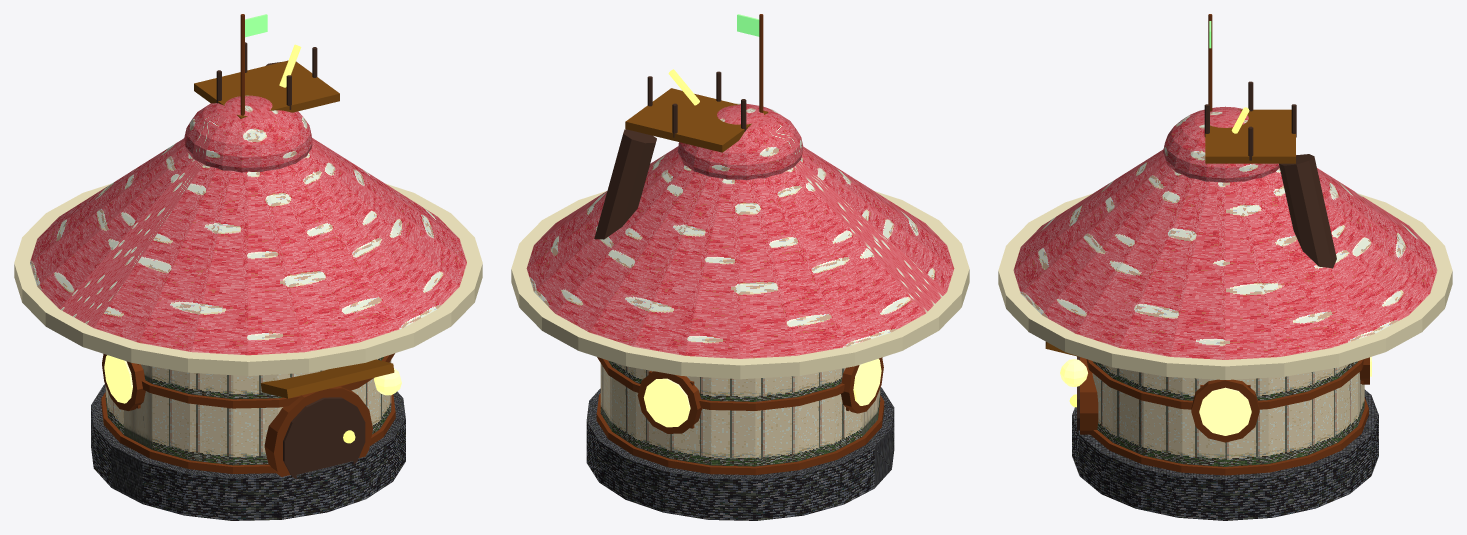
File: casa_pino.glb
3 views of the same model, side by side, from view 1: azimuth 30°, elevation 25°; view 2: azimuth 150°, elevation 25°; view 3: azimuth 270°, elevation 25° (orthographic). The views are drawn at different scales.
Visible parts, largest first — view 1: Cone, Cylinder, Cylinder.005, Cylinder.001, Sphere, Cylinder.014, Cube, Cylinder.013, Cube.002, Cylinder.002, Cylinder.003, Cylinder.016 (+1 smaller); view 2: Cone, Cylinder.001, Cylinder, Cylinder.005, Sphere, Cube, Cylinder.012, Cylinder.002, Cylinder.003, Cylinder.020, Cylinder.019, Cylinder.016 (+1 smaller); view 3: Cone, Cylinder.001, Cylinder, Cylinder.005, Sphere, Cube, Cylinder.012, Cylinder.002, Cylinder.003, Cylinder.018, Cylinder.017, Cylinder.013 (+1 smaller).
Part boxes in pixels (bbox=[...]): Cone: bbox=[30, 138, 466, 355]; Cylinder: bbox=[91, 384, 405, 520]; Cylinder.005: bbox=[14, 183, 482, 375]; Cylinder.001: bbox=[105, 357, 391, 465]; Sphere: bbox=[184, 95, 312, 172]; Cylinder.014: bbox=[283, 397, 365, 478]; Cube: bbox=[194, 60, 339, 118]; Cylinder.013: bbox=[264, 386, 372, 476]; Cube.002: bbox=[260, 359, 394, 398]; Cylinder.002: bbox=[101, 392, 395, 473]; Cylinder.003: bbox=[142, 353, 394, 408]; Cylinder.016: bbox=[104, 355, 132, 403]; Cone: bbox=[526, 146, 954, 358]; Cylinder.001: bbox=[600, 360, 880, 466]; Cylinder: bbox=[586, 387, 894, 520]; Cylinder.005: bbox=[511, 191, 969, 379]; Sphere: bbox=[677, 103, 803, 180]; Cube: bbox=[625, 88, 768, 152]; Cylinder.012: bbox=[594, 129, 656, 239]; Cylinder.002: bbox=[596, 393, 884, 475]; Cylinder.003: bbox=[597, 357, 882, 410]; Cylinder.020: bbox=[643, 378, 690, 427]; Cylinder.019: bbox=[637, 371, 701, 433]; Cylinder.016: bbox=[853, 358, 881, 405]; Cone: bbox=[1013, 149, 1437, 359]; Cylinder.001: bbox=[1092, 361, 1364, 466]; Cylinder: bbox=[1072, 389, 1378, 520]; Cylinder.005: bbox=[998, 193, 1452, 379]; Sphere: bbox=[1163, 106, 1279, 182]; Cube: bbox=[1205, 109, 1295, 163]; Cylinder.012: bbox=[1279, 154, 1336, 268]; Cylinder.002: bbox=[1090, 397, 1368, 475]; Cylinder.003: bbox=[1086, 359, 1363, 409]; Cylinder.018: bbox=[1199, 387, 1251, 435]; Cylinder.017: bbox=[1191, 379, 1259, 442]; Cylinder.013: bbox=[1080, 357, 1098, 434].
Size of the model in its own units: 4.5 by 4.75 by 4.5.
Materials: 10 (3 with a texture image).
